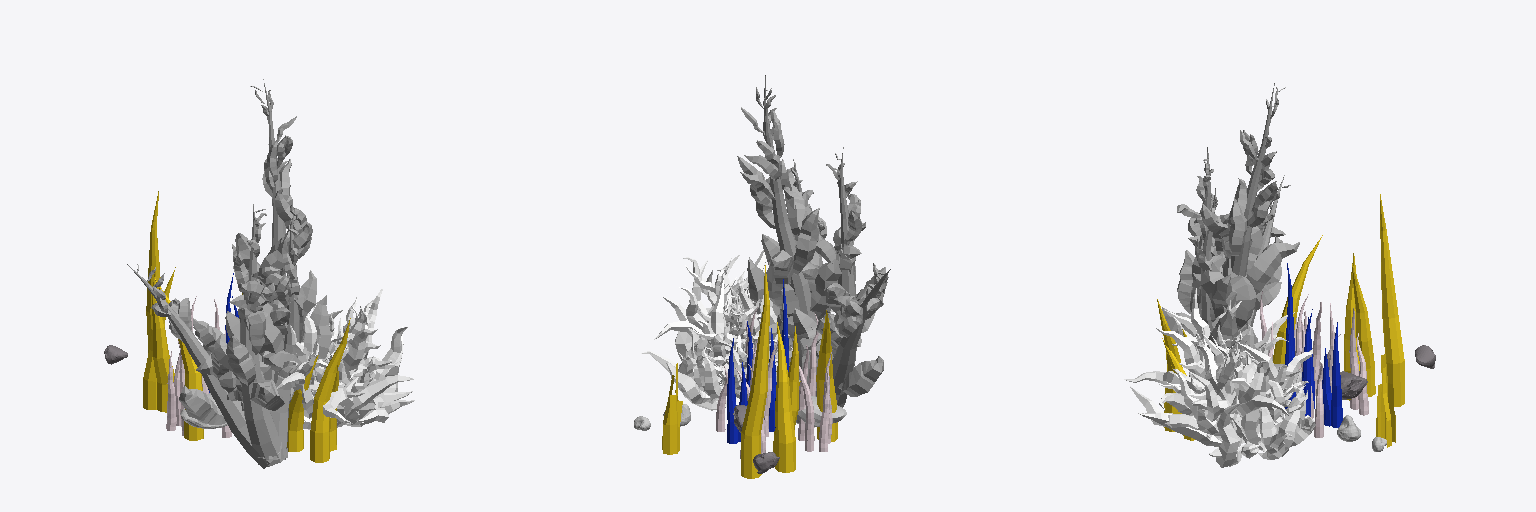
Rendered from toundra.obj.
3 renders of one model, left to right at view 1: azimuth 30°, elevation 25°; view 2: azimuth 150°, elevation 25°; view 3: azimuth 270°, elevation 25°, orthographic.
Visible parts, largest first — view 1: bgroup2, Herbes_bgroup2.001, bgroup1, bgroup1.005, bgroup1.004; view 2: bgroup2, Herbes_bgroup2.001, bgroup1.005, bgroup1, bgroup1.004, Mini_herbes_bgroup1.002; view 3: Herbes_bgroup2.001, bgroup2, bgroup1.005, bgroup1.004, Mini_herbes_bgroup1.002, bgroup1, Roche_Sphere.
Boxes of the visible parts, x1,y1,x2,y2 form: bgroup2: [137, 86, 331, 424]; Herbes_bgroup2.001: [277, 289, 414, 429]; bgroup1: [127, 79, 299, 468]; bgroup1.005: [143, 191, 350, 462]; bgroup1.004: [166, 296, 231, 437]; bgroup2: [737, 87, 888, 396]; Herbes_bgroup2.001: [641, 250, 833, 410]; bgroup1.005: [662, 265, 837, 478]; bgroup1: [763, 75, 890, 407]; bgroup1.004: [716, 307, 832, 458]; Mini_herbes_bgroup1.002: [727, 279, 789, 443]; Herbes_bgroup2.001: [1124, 288, 1315, 467]; bgroup2: [1162, 87, 1299, 357]; bgroup1.005: [1157, 194, 1404, 447]; bgroup1.004: [1260, 291, 1368, 437]; Mini_herbes_bgroup1.002: [1285, 263, 1342, 427]; bgroup1: [1189, 83, 1284, 376]; Roche_Sphere: [1340, 371, 1367, 399].
Bounding box in the file's own units: 1.76 × 2.38 × 1.88.